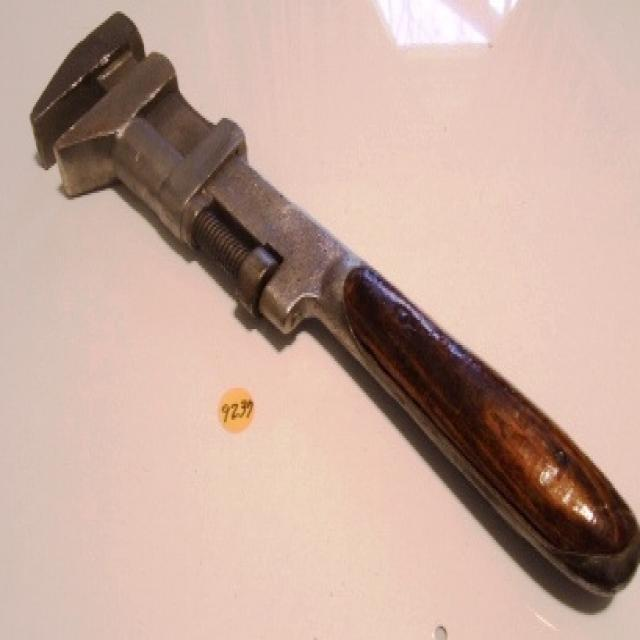wrench: (23, 4, 640, 600)
